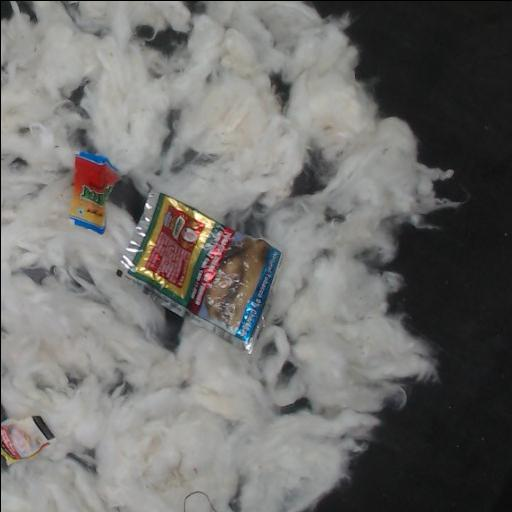conveyor belt: (307, 1, 512, 512), (112, 179, 143, 220), (138, 27, 184, 53), (293, 157, 320, 194), (163, 310, 182, 350), (272, 74, 288, 103), (17, 1, 34, 19), (1, 1, 12, 18)
cotton: (1, 1, 456, 512)
packet: (117, 191, 280, 353), (70, 151, 118, 233), (1, 416, 54, 464)
thread: (183, 491, 217, 512)
